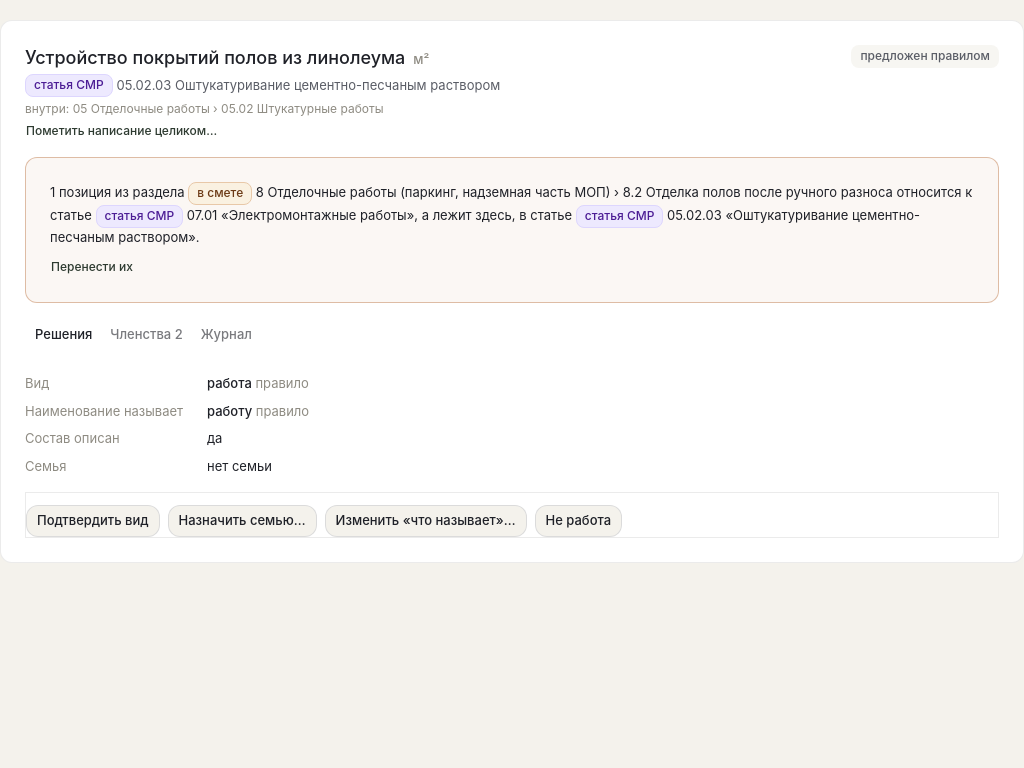
Scenario: ContextCard › «Перенести их» вызывает пакетный перенос один раз с chapter_item_id и expected_category_id своей записи
The image size is (1024, 768).
Click the button "Перенести их" at (92, 268), box x1=50 y1=258 x2=134 y2=277
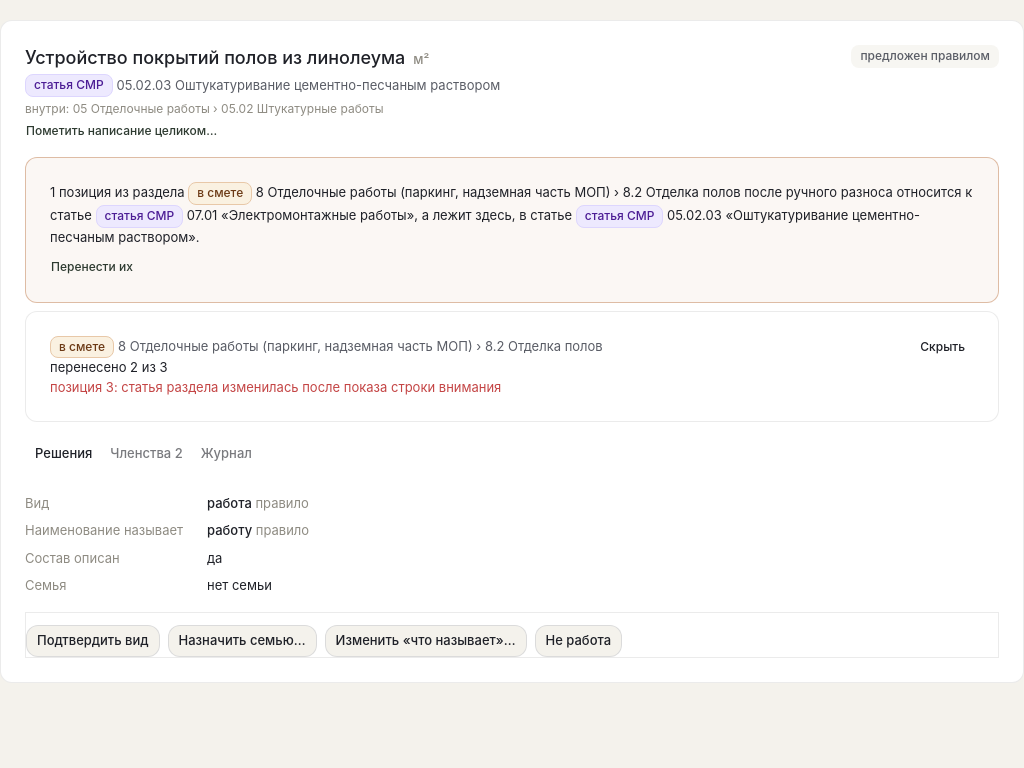
Expected: the text "перенесено 2 из 3" is shown, x1=50 y1=360 x2=168 y2=376
Expected: the text "статья раздела изменилась после показа строки внимания" is shown, x1=121 y1=379 x2=501 y2=395
